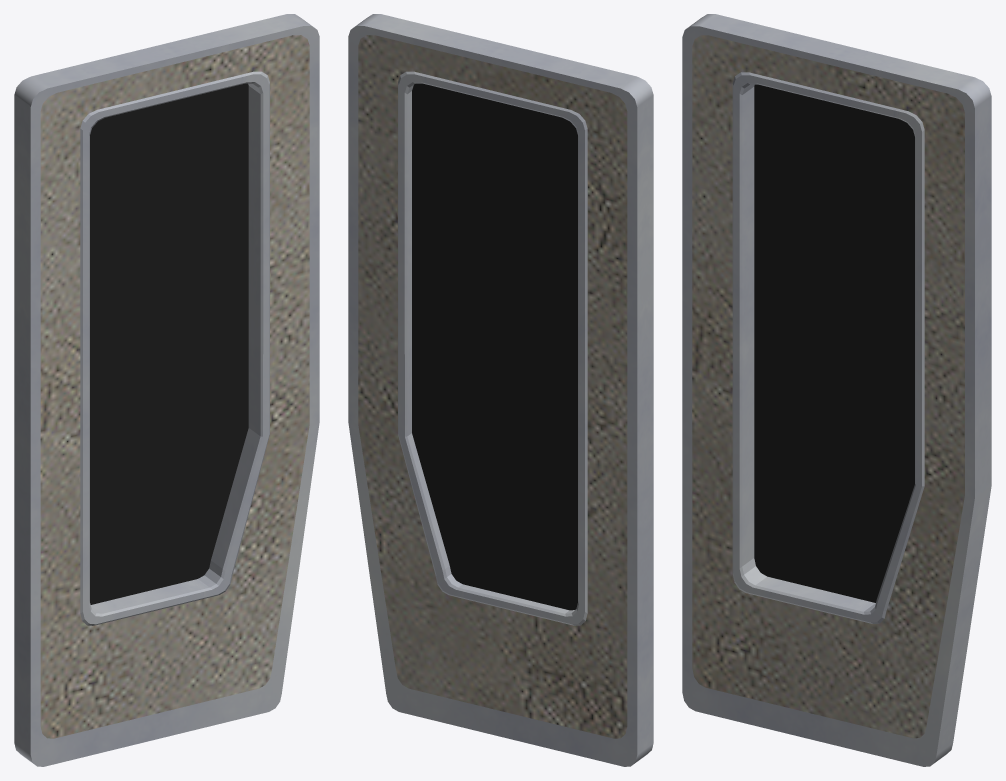
Rendered from MetroEnd_Left.fbx.
3 views of the same model, side by side, from view 1: azimuth 30°, elevation 25°; view 2: azimuth 150°, elevation 25°; view 3: azimuth 330°, elevation 25° (orthographic).
Visible parts, largest first — view 1: MetroEnd_Left; view 2: MetroEnd_Left; view 3: MetroEnd_Left.
Boxes of the visible parts, left/top/right/bottom form: MetroEnd_Left: left=14, top=14, right=319, bottom=766; MetroEnd_Left: left=348, top=14, right=653, bottom=766; MetroEnd_Left: left=682, top=14, right=991, bottom=766.
Bounding box in the file's own units: 117 × 261 × 12.7.
3 materials, 2 textured.
